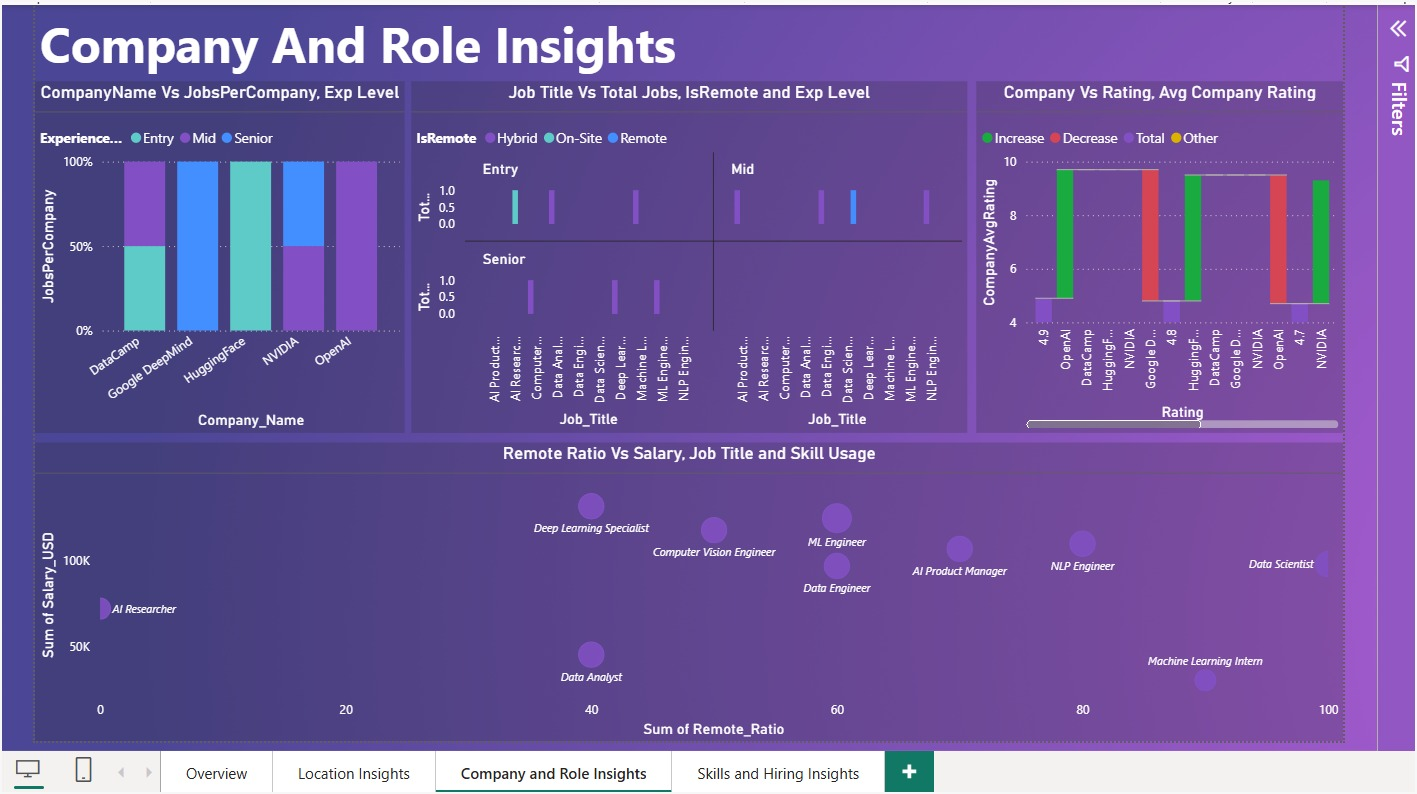

What the dashboard file says about the page in this screenshot:
{"tool":"powerbi","page":{"name":"Company and Role Insights","canvas":[1280,720],"ordinal":2},"visuals":[{"type":"textbox","box":[0,0,639.5,74.6],"z":0},{"type":"hundredPercentStackedColumnChart","title":"CompanyName Vs JobsPerCompany, Exp Level","fields":{"Category":["Dim_Companies.Company_Name"],"Y":["Dim_Companies.JobsPerCompany"],"Series":["Fact_Jobs.Experience_Level"]},"box":[0,74.6,362,343.6],"z":1000},{"type":"waterfallChart","title":"Company Vs Rating, Avg Company Rating","fields":{"Category":["Dim_Companies.Rating"],"Breakdown":["Dim_Companies.Company_Name"],"Y":["Dim_Companies.CompanyAvgRating"]},"box":[920.8,74.6,359.5,343.6],"z":2000},{"type":"clusteredColumnChart","title":"Job Title Vs Total Jobs, IsRemote and Exp Level","fields":{"Category":["Fact_Jobs.Job_Title"],"Y":["Fact_Jobs.TotalJobs"],"Series":["Fact_Jobs.IsRemote"],"Rows":["Fact_Jobs.Experience_Level"]},"box":[368.1,74.6,544.2,343.6],"z":3000},{"type":"scatterChart","title":"Remote Ratio Vs Salary, Job Title and Skill Usage","fields":{"Category":["Fact_Jobs.Job_Title"],"X":["Sum(Fact_Jobs.Remote_Ratio)"],"Y":["Sum(Fact_Jobs.Salary_USD)"],"Size":["Dim_Skills.SkillUsageCount"]},"box":[0,428,1280.3,292.3],"z":4000}]}

Visuals, with their boxes on the page's 1280x720 design canvas (x1, y1, x2, y2). These are canvas units, not pixel positions in the 1417x794 screenshot, which may show the page scaled, cropped or inside an application window:
textbox: locate(0, 0, 640, 75)
"CompanyName Vs JobsPerCompany, Exp Level" hundredPercentStackedColumnChart: locate(0, 75, 362, 418)
"Company Vs Rating, Avg Company Rating" waterfallChart: locate(921, 75, 1280, 418)
"Job Title Vs Total Jobs, IsRemote and Exp Level" clusteredColumnChart: locate(368, 75, 912, 418)
"Remote Ratio Vs Salary, Job Title and Skill Usage" scatterChart: locate(0, 428, 1280, 720)
